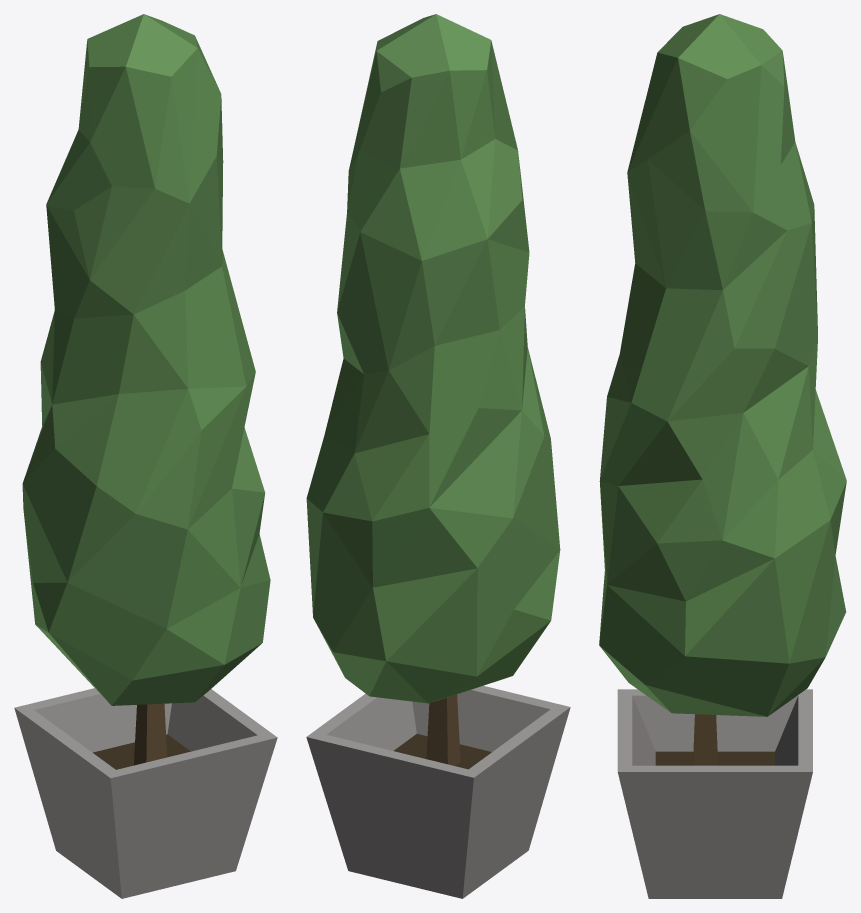
Rendered from Medium Coniferous.fbx.
The picture shows the model from 3 angles, left to right: view 1: azimuth 30°, elevation 25°; view 2: azimuth 150°, elevation 25°; view 3: azimuth 270°, elevation 25°; orthographic projection.
Visible parts, largest first — view 1: medium coniferous; view 2: medium coniferous; view 3: medium coniferous.
Boxes of the visible parts, x1,y1,x2,y2 form: medium coniferous: (14, 14, 277, 898); medium coniferous: (306, 14, 570, 898); medium coniferous: (599, 14, 846, 898).
Size of the model in its own units: 87.66 by 330 by 86.55.
